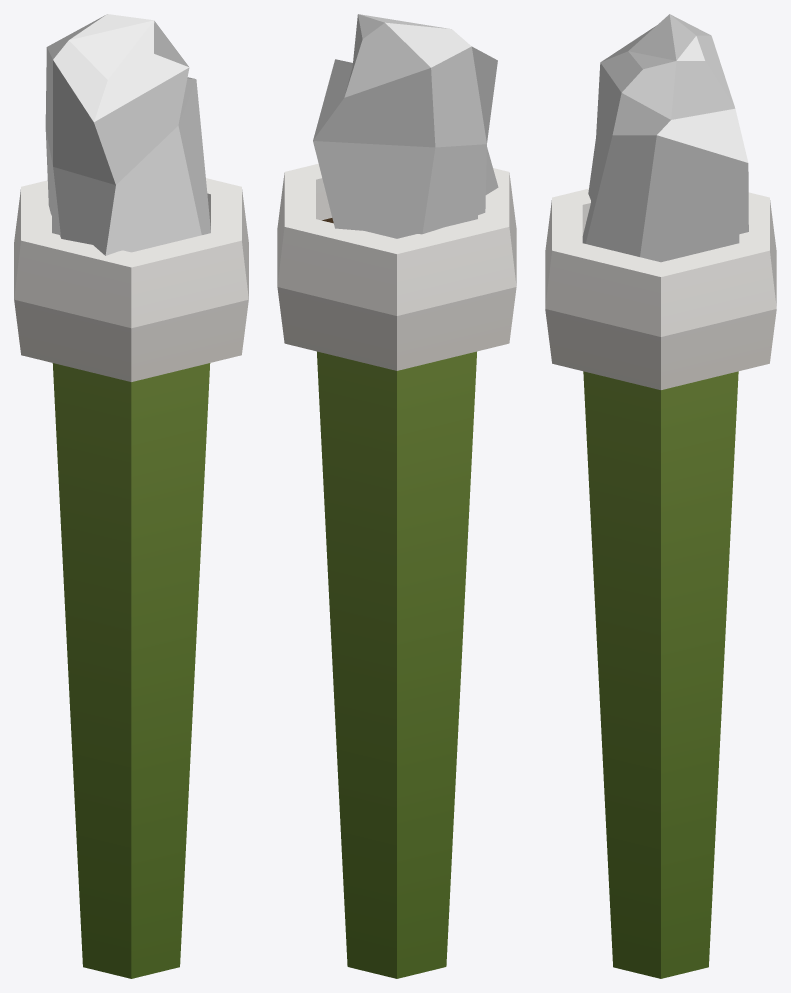
File: Torch.fbx
The picture shows the model from 3 angles, left to right: view 1: azimuth 30°, elevation 25°; view 2: azimuth 150°, elevation 25°; view 3: azimuth 270°, elevation 25°; orthographic projection. The views are drawn at different scales.
Visible parts, largest first — view 1: Light_08.001; view 2: Light_08.001; view 3: Light_08.001.
Boxes of the visible parts, x1,y1,x2,y2 form: Light_08.001: (14, 14, 248, 978); Light_08.001: (277, 14, 516, 978); Light_08.001: (545, 14, 776, 978).
Bounding box in the file's own units: 147 × 556 × 127.
